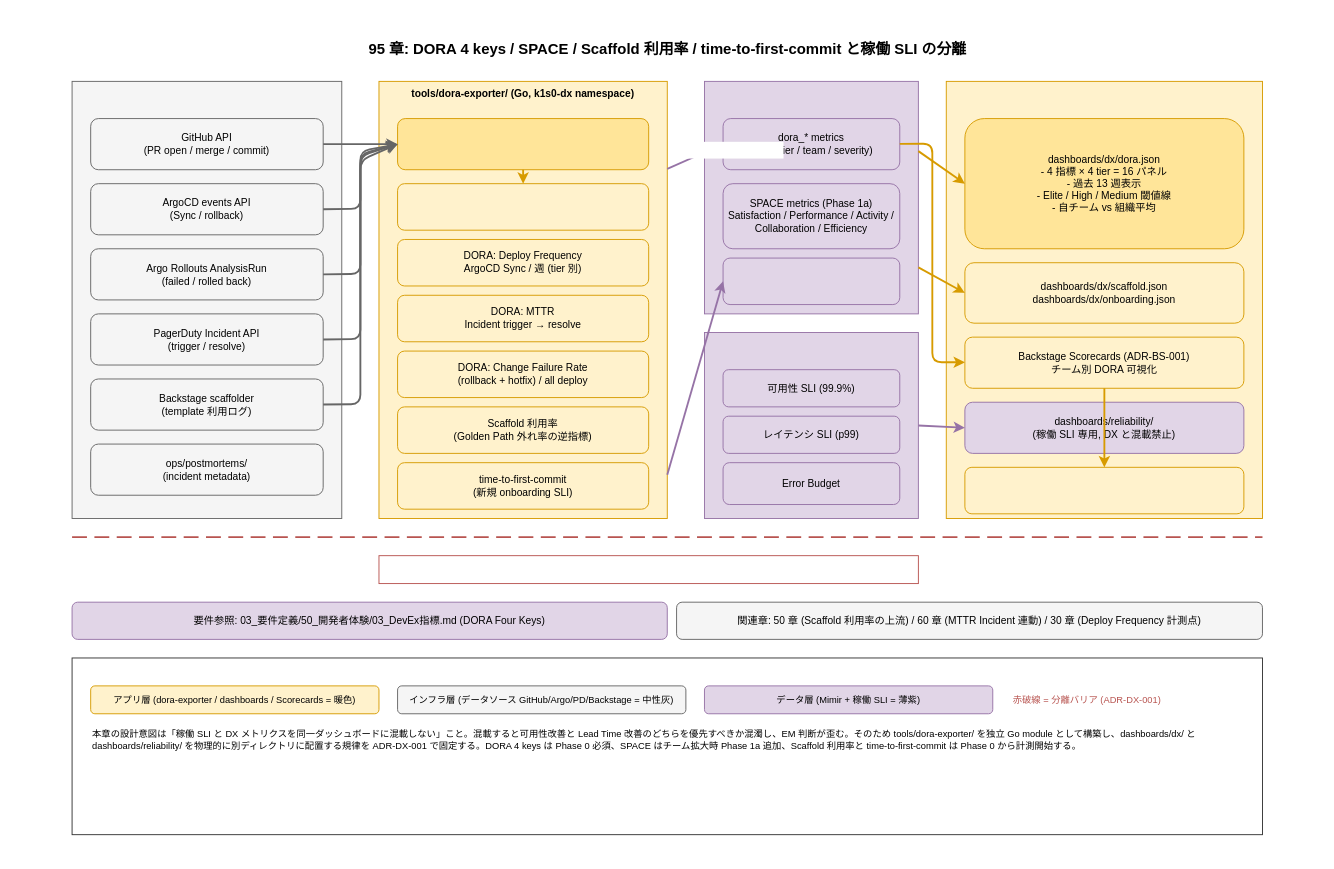
The diagram is 1334 pixels wide and 869 high, and some of its shapes have lost their labels. Each missing label, with the box of its shape:
dora-exporter (5 分 scrape 間隔, Valkey 10 分キャッシュ): (397, 118, 649, 170)
DORA: Lead Time for Changes PR open → Synced+Healthy: (397, 183, 649, 230)
EM 向け定期レポート (Phase 1b) 意思決定は EM 層に返す: (964, 466, 1244, 514)
Grafana dashboards (分離配置): (945, 80, 1262, 518)
Mimir (time-series store): (704, 80, 918, 314)
Prometheus expose: (671, 141, 783, 158)
scaffold_usage_ratio first_commit_seconds: (722, 257, 900, 305)
── 分離バリア (ADR-DX-001: 同一ダッシュボード禁止) ──: (378, 555, 918, 584)
データソース (30/50/60 章): (71, 80, 342, 518)
凡例: (71, 657, 1262, 835)
稼働 SLI (60 章 / 分離): (704, 332, 918, 518)
